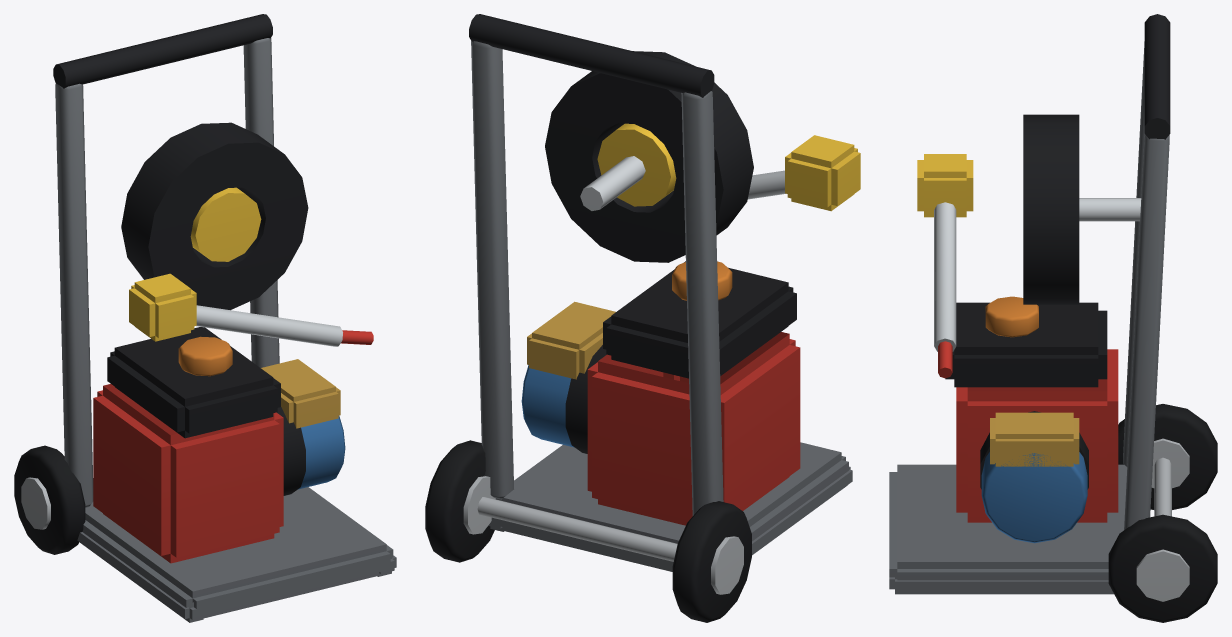
Rendered from SM_PressureWasher_01.glb.
The picture shows the model from 3 angles, left to right: view 1: azimuth 30°, elevation 25°; view 2: azimuth 150°, elevation 25°; view 3: azimuth 270°, elevation 25°; orthographic projection. The views are drawn at different scales.
Parts seen in each view (by area): view 1: SM_PressureWasher_01; view 2: SM_PressureWasher_01; view 3: SM_PressureWasher_01.
Part boxes in pixels (box(x1,y1,x2,y2)): SM_PressureWasher_01: box(14, 14, 396, 622); SM_PressureWasher_01: box(425, 14, 860, 622); SM_PressureWasher_01: box(889, 14, 1217, 622).
Bounding box in the file's own units: 0.538 × 0.984 × 0.5875.
Materials: 1 (1 with a texture image).
